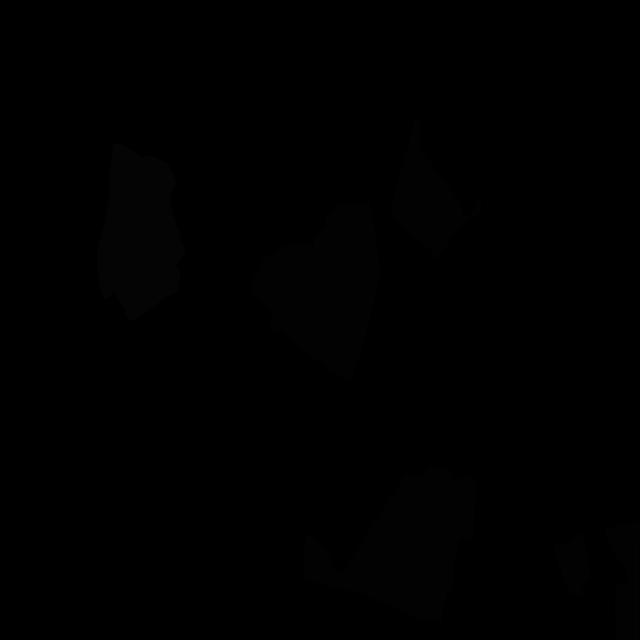cardboard: (304, 465, 477, 623), (250, 201, 380, 380), (390, 120, 481, 262), (605, 519, 640, 640), (553, 533, 590, 597)
soft_plastic: (97, 144, 186, 320)
